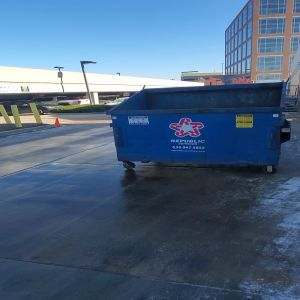Dumpster: (106, 80, 294, 177)
